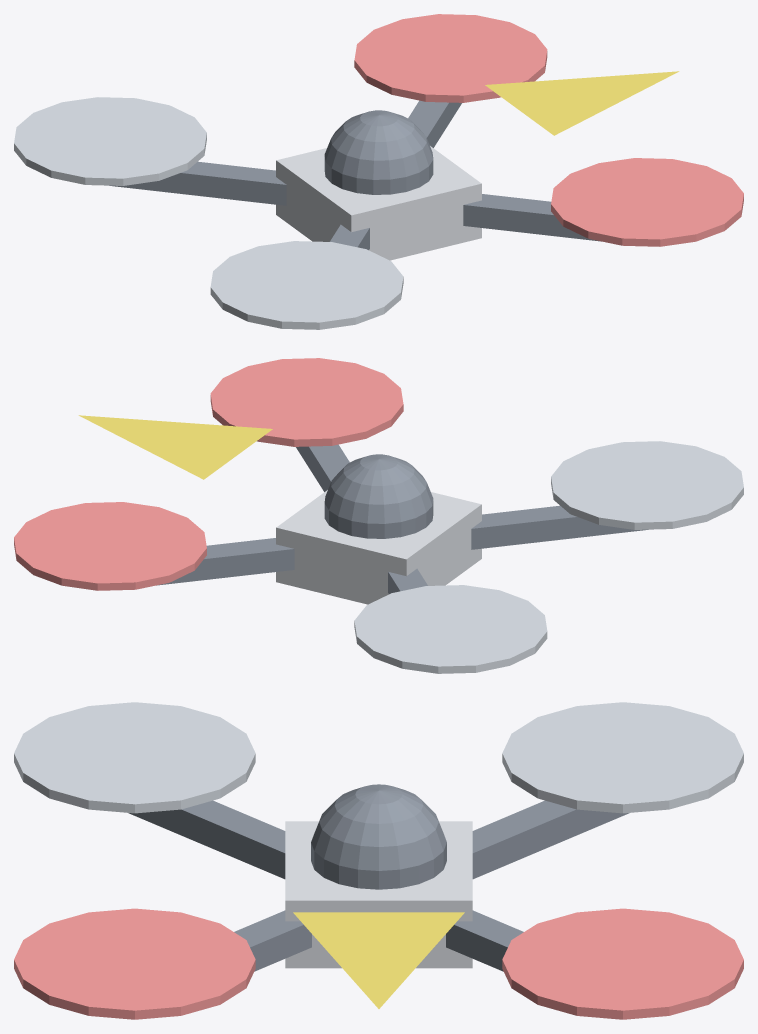
The model's file is quad.glb.
The picture shows the model from 3 angles, top to bottom: view 1: azimuth 30°, elevation 25°; view 2: azimuth 150°, elevation 25°; view 3: azimuth 270°, elevation 25°; orthographic projection. The views are drawn at different scales.
Bounding box in the file's own units: 27.69 × 5.3 × 25.37.
